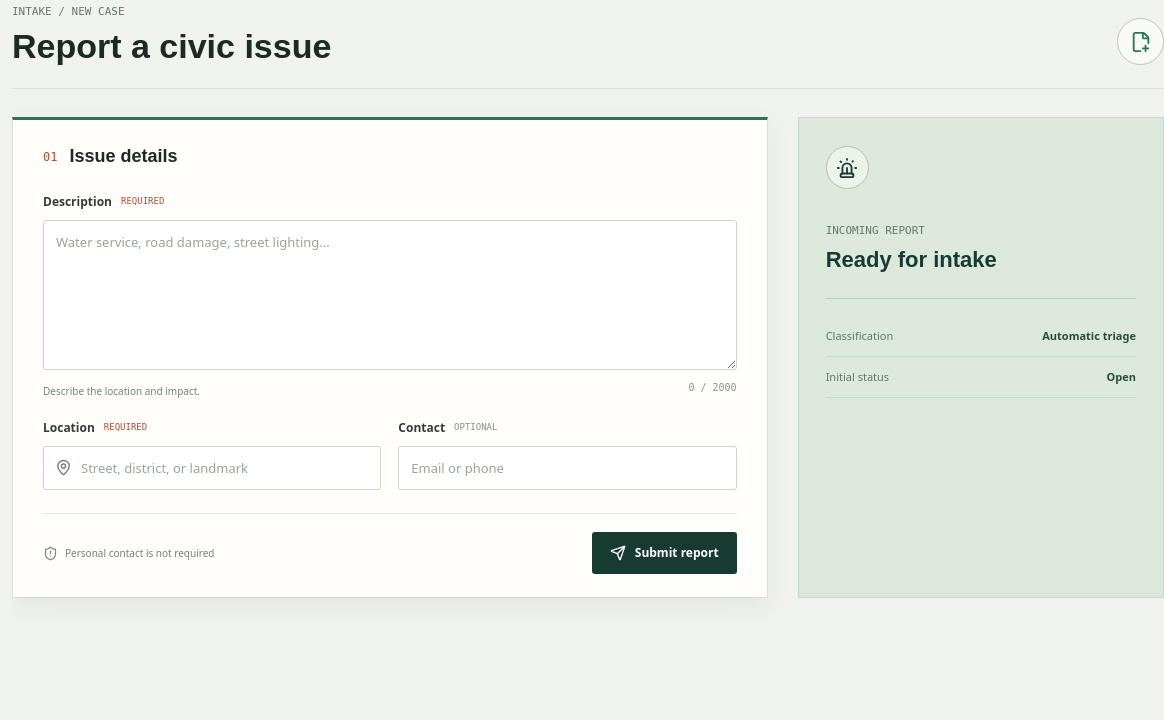
Test: CivicPulse views › validates complaint text and location before sending
Type "short" into the text box labelled "Description Required" at (390, 295), box [43,220,737,370]
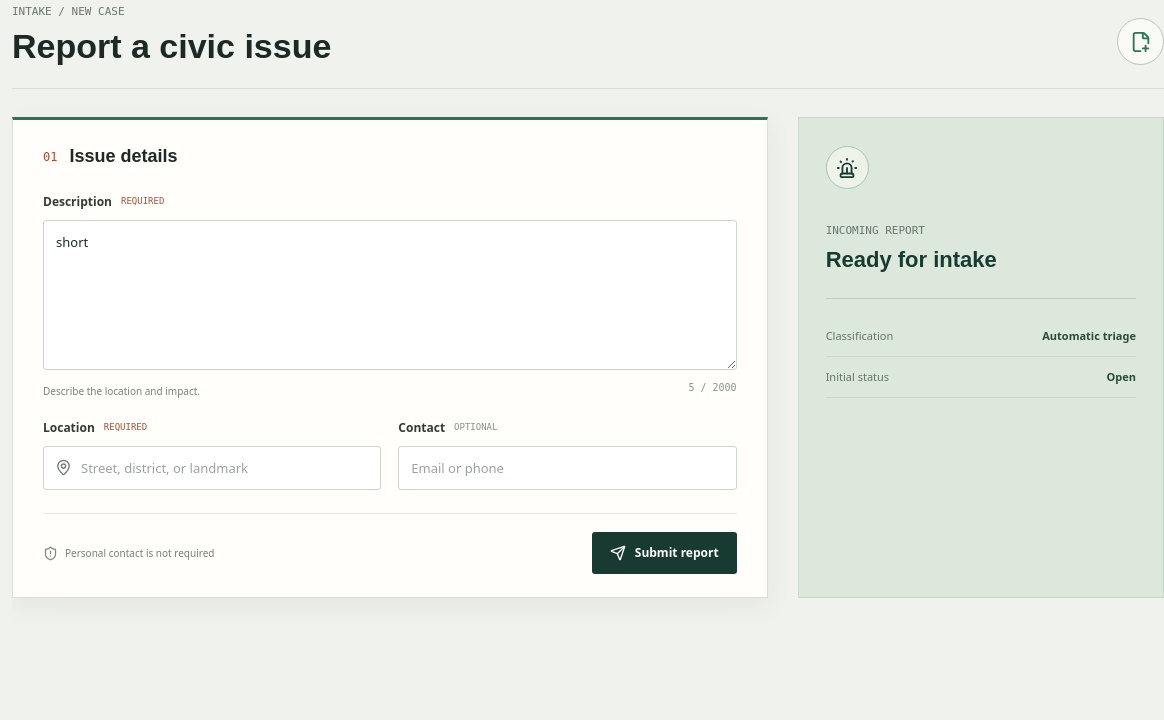
Type "AB" into the field labelled "Location Required" at (212, 468), box [43,446,381,490]
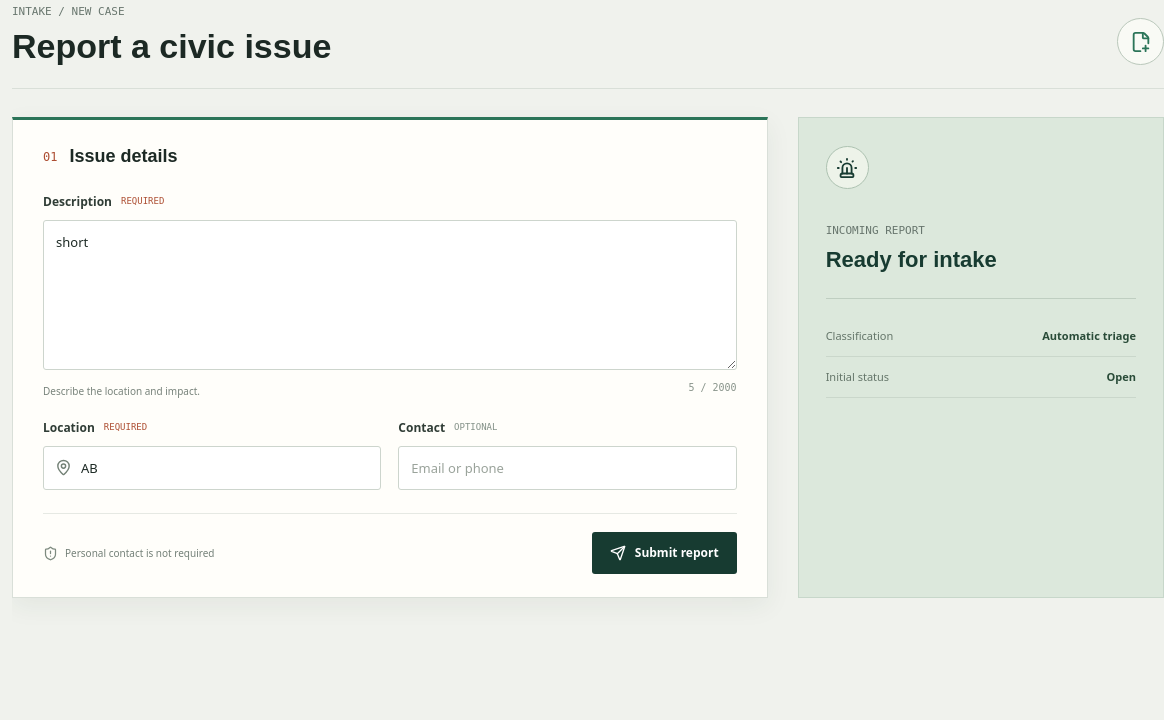
Submit the form named "New complaint", box [12,117,768,598]
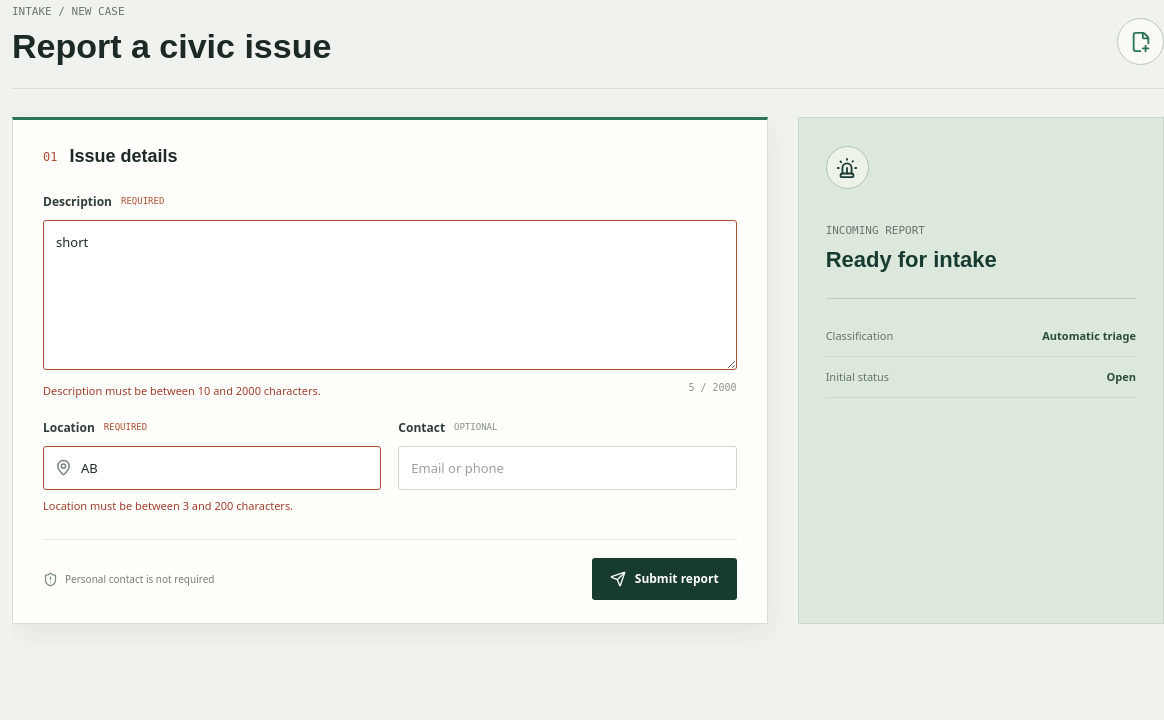
Check: the text "Description must be between 10 and 2000 characters." is shown, box [43,381,321,402]
Check: the text "Location must be between 3 and 200 characters." is shown, box [43,498,293,513]
